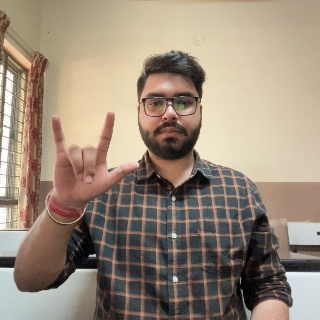I Love You: (50, 112, 140, 219)
